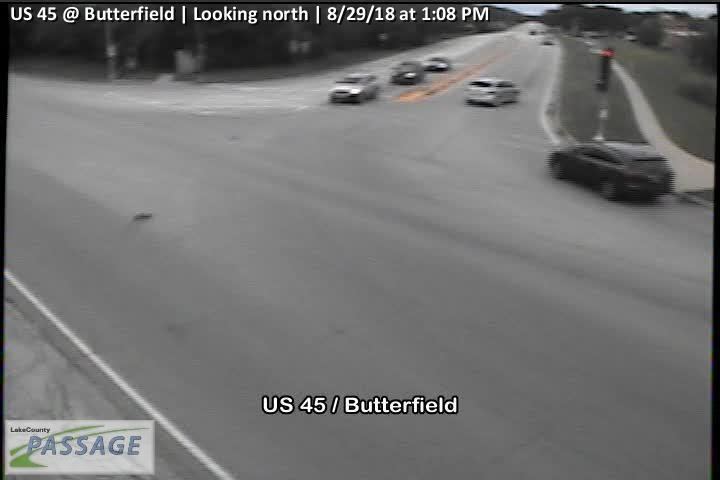SUV: (545, 139, 675, 205), (329, 71, 380, 106), (463, 78, 521, 107), (390, 60, 424, 83), (542, 37, 555, 46)
Sedan: (422, 55, 452, 72)
